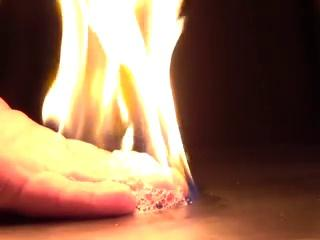Fire: (39, 1, 192, 206)
